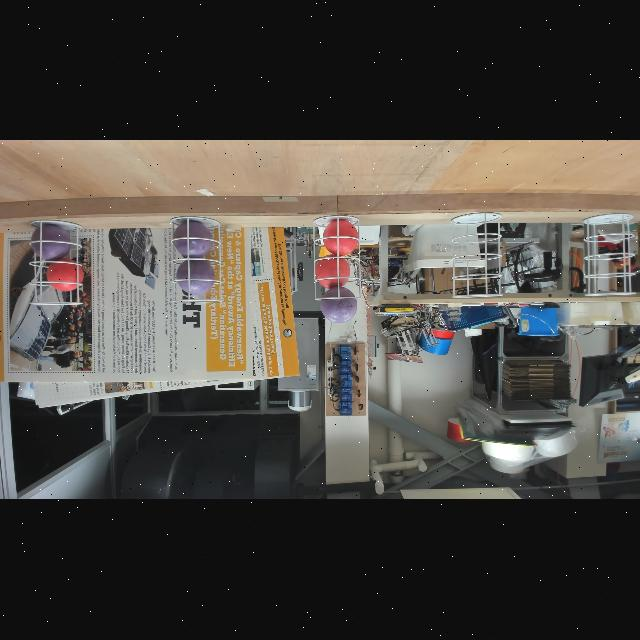P: (173, 220, 213, 260), (30, 224, 72, 262), (177, 258, 216, 296), (320, 286, 358, 324)
R: (323, 220, 359, 256), (46, 258, 84, 292), (316, 254, 350, 290)
S: (28, 220, 84, 306), (450, 213, 504, 299), (170, 216, 222, 304), (582, 212, 636, 296), (313, 215, 362, 302)
